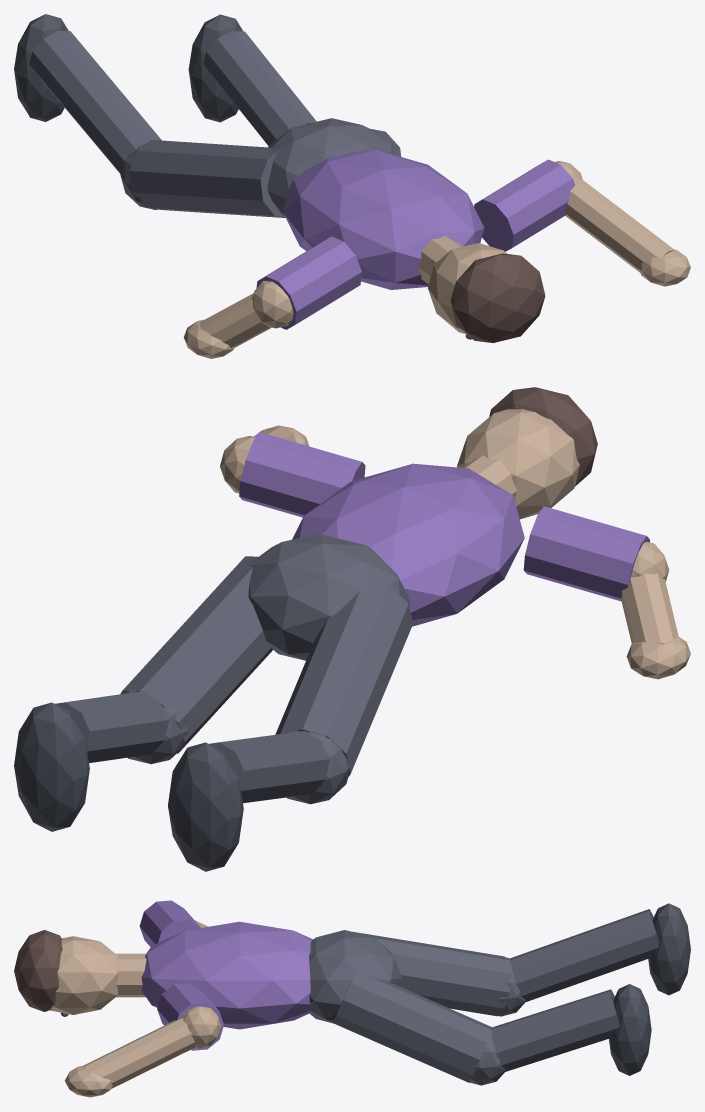
3 views of the same model, one above another, from view 1: azimuth 30°, elevation 25°; view 2: azimuth 150°, elevation 25°; view 3: azimuth 270°, elevation 25° (orthographic). The views are drawn at different scales.
Visible parts, largest first — view 1: world; view 2: world; view 3: world.
Boxes of the visible parts, bbox=[...] form: world: bbox=[14, 14, 690, 358]; world: bbox=[14, 387, 690, 871]; world: bbox=[14, 900, 690, 1097].
Size of the model in its own units: 1.25 by 0.3942 by 2.
